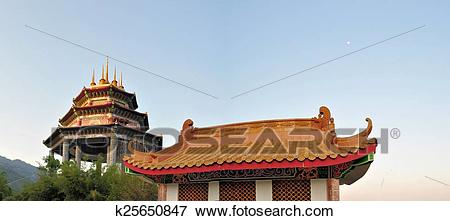Buddhist Temple: (44, 65, 369, 196)
